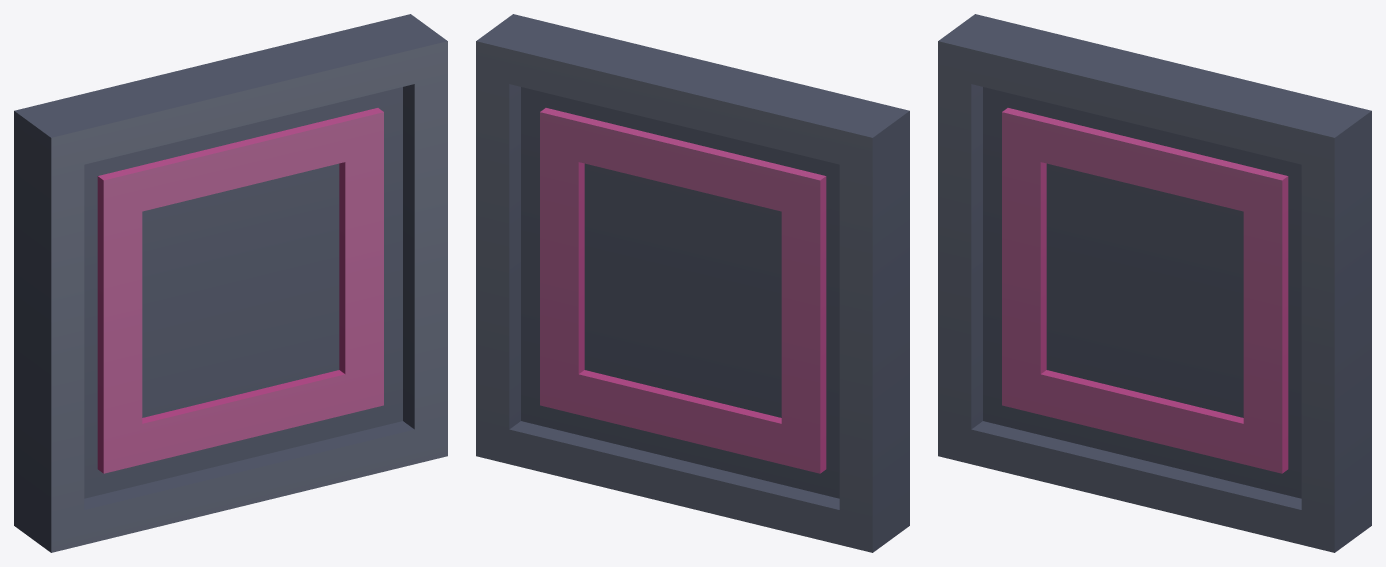
The model's file is squidgame_coin_rectangle.fbx.
3 views of the same model, side by side, from view 1: azimuth 30°, elevation 25°; view 2: azimuth 150°, elevation 25°; view 3: azimuth 330°, elevation 25° (orthographic).
Parts seen in each view (by area): view 1: squidgame_coin_rectangle; view 2: squidgame_coin_rectangle; view 3: squidgame_coin_rectangle.
Boxes of the visible parts, x1,y1,x2,y2 form: squidgame_coin_rectangle: [14, 14, 447, 552]; squidgame_coin_rectangle: [476, 14, 909, 552]; squidgame_coin_rectangle: [938, 14, 1371, 552].
Size of the model in its own units: 0.6569 by 0.6569 by 0.1064.
